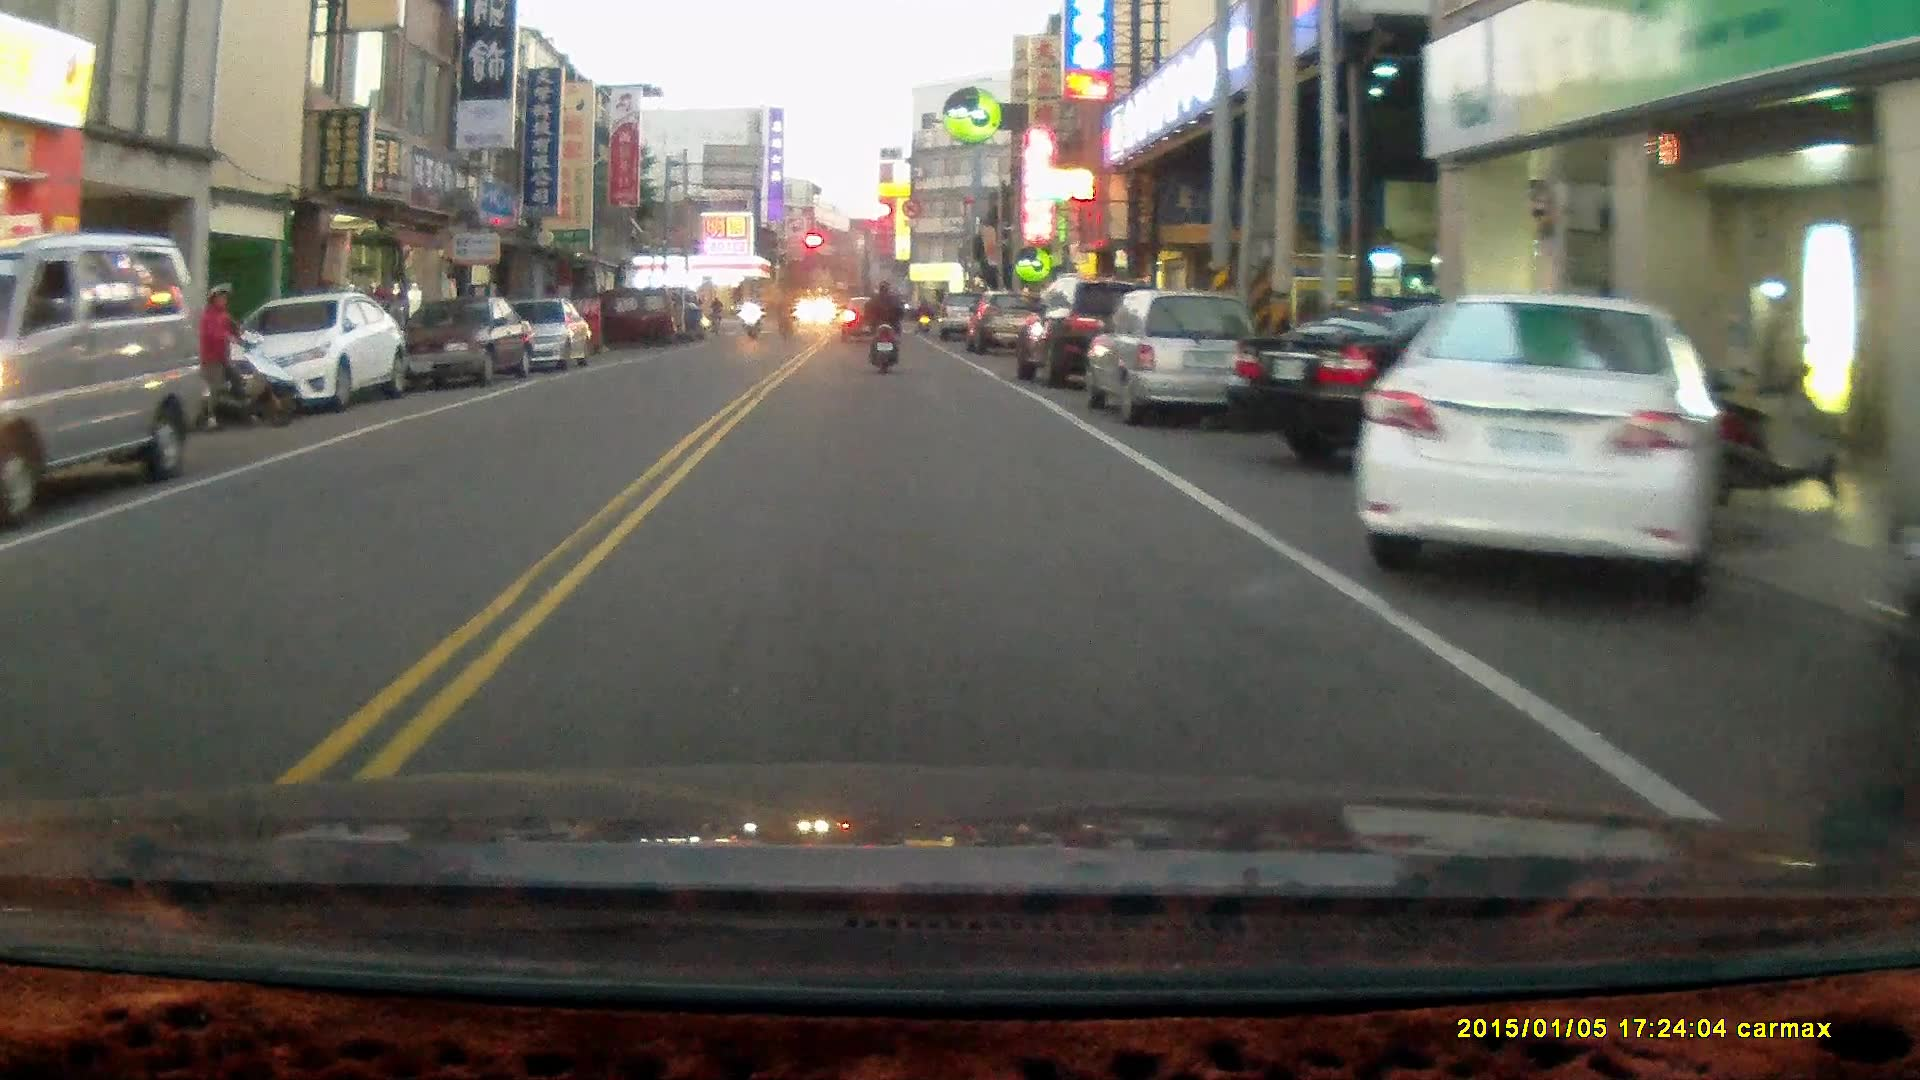rider: (188, 278, 293, 434), (860, 277, 903, 378), (737, 293, 762, 341)
vehicle: (1354, 289, 1740, 594), (1232, 296, 1673, 478), (1, 237, 203, 507), (1087, 289, 1272, 424), (220, 292, 404, 417), (1013, 278, 1163, 392), (385, 299, 540, 391), (475, 298, 589, 377)
